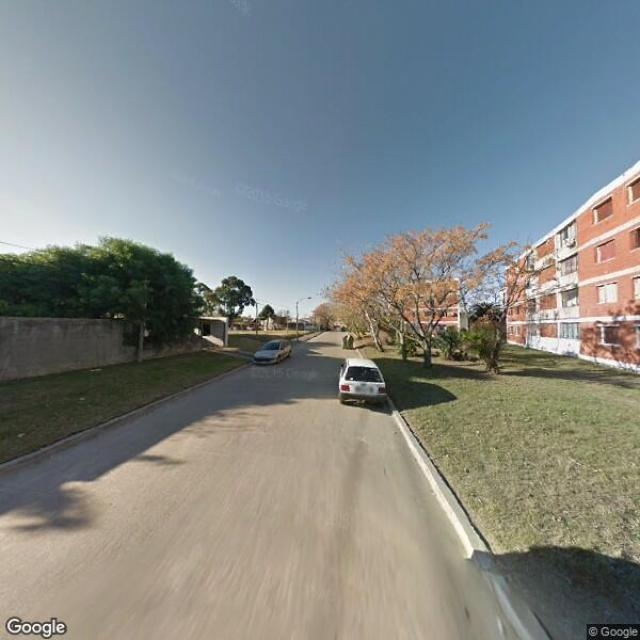garbage container: (338, 330, 361, 353)
